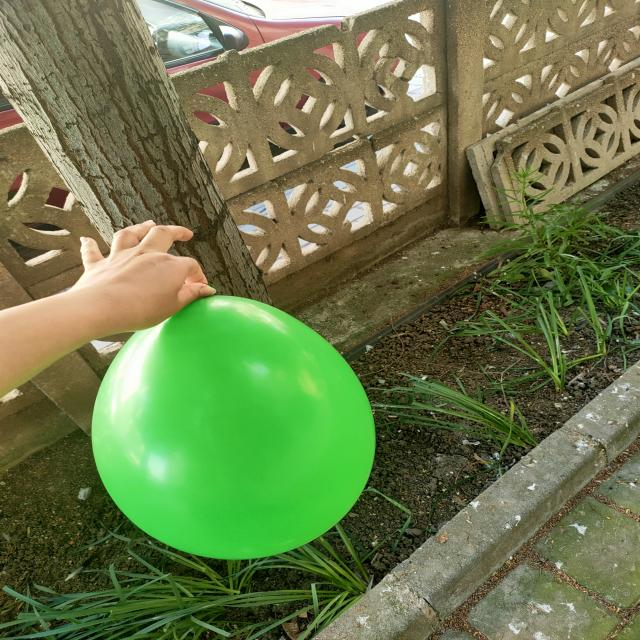green: (90, 296, 377, 562)
